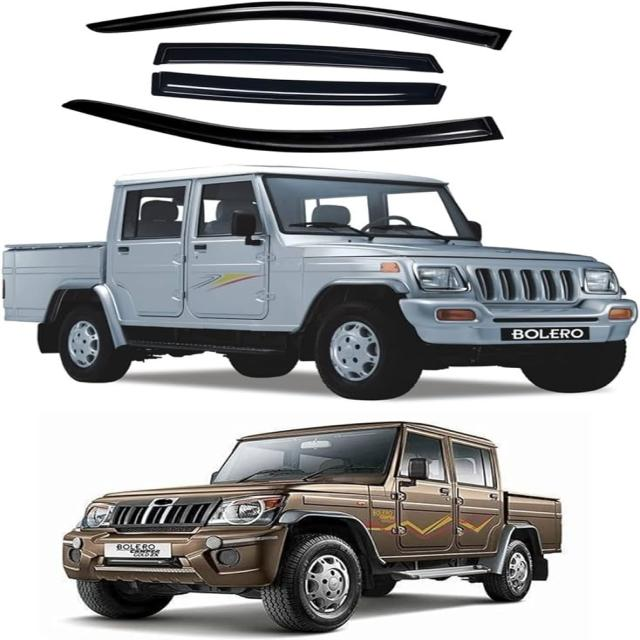light_vehicle: (0, 162, 640, 400), (64, 422, 568, 628)
